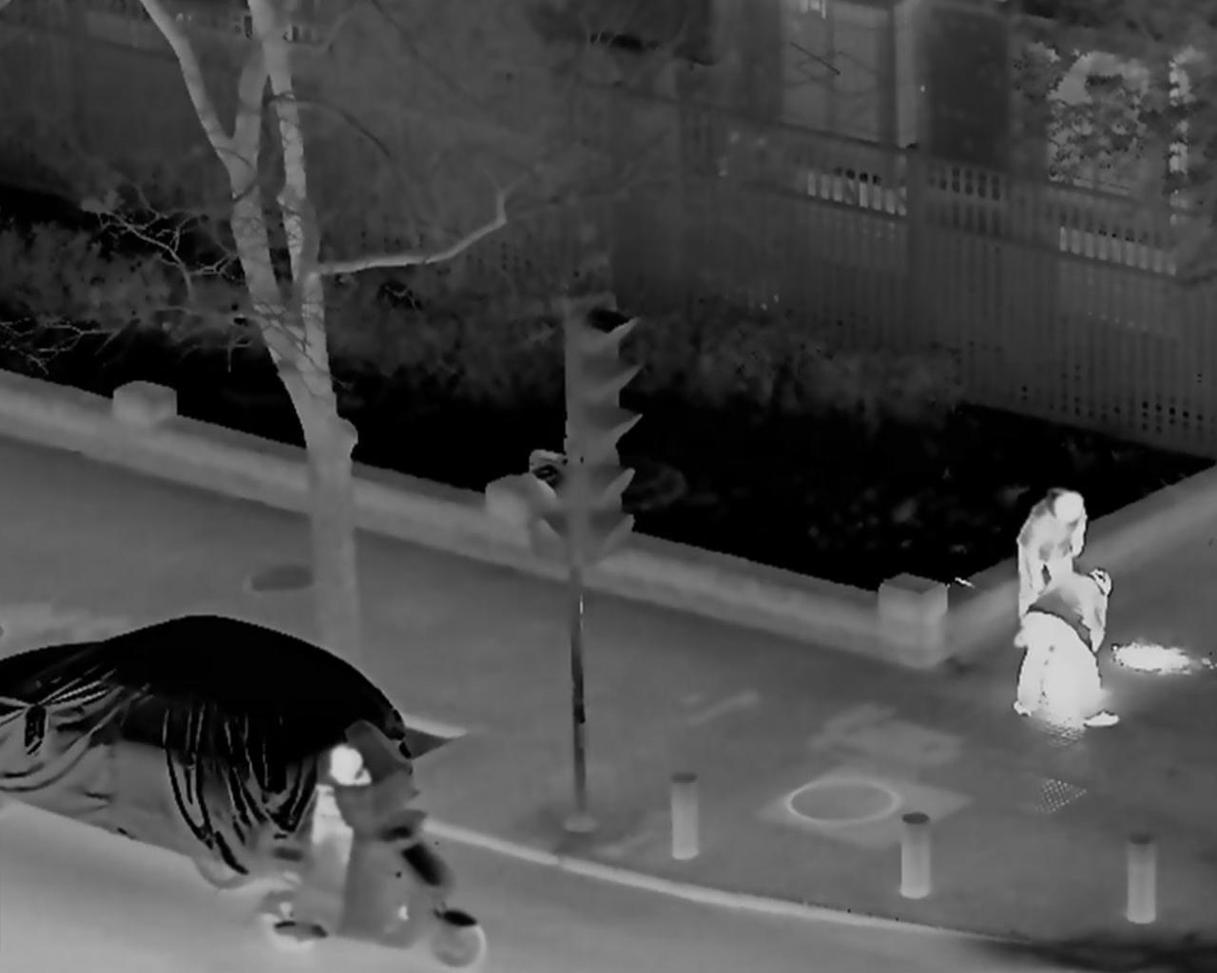person: (301, 742, 412, 928), (1014, 565, 1123, 735), (1013, 486, 1092, 664)
